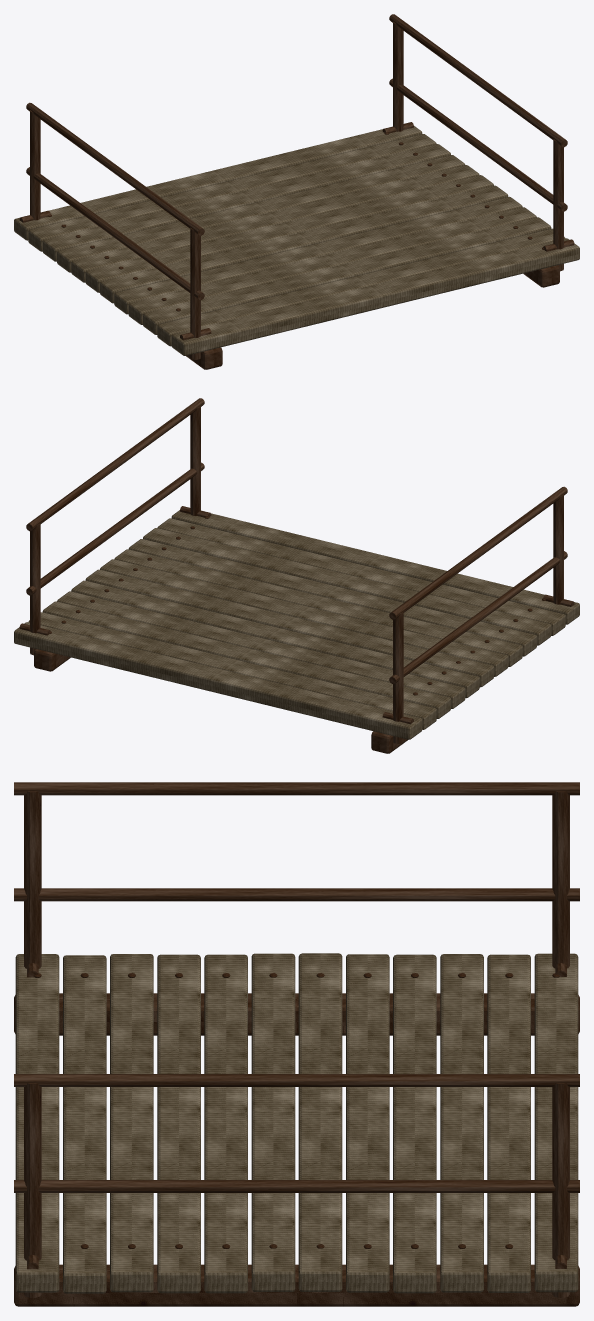
3 renders of one model, top to bottom at view 1: azimuth 30°, elevation 25°; view 2: azimuth 150°, elevation 25°; view 3: azimuth 270°, elevation 25°, orthographic. The views are drawn at different scales.
Parts seen in each view (by area): view 1: Coast_bridge; view 2: Coast_bridge; view 3: Coast_bridge.
Boxes of the visible parts, bbox=[...] form: Coast_bridge: bbox=[14, 14, 579, 369]; Coast_bridge: bbox=[14, 398, 579, 753]; Coast_bridge: bbox=[14, 782, 579, 1306].
Size of the model in its own units: 4 by 1.39 by 3.
Materials: 2 (2 with a texture image).
